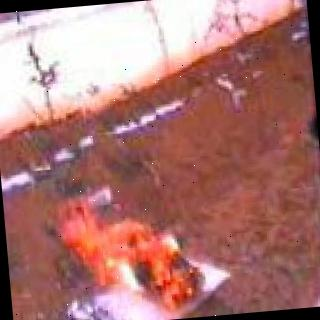fire: (55, 191, 211, 320)
